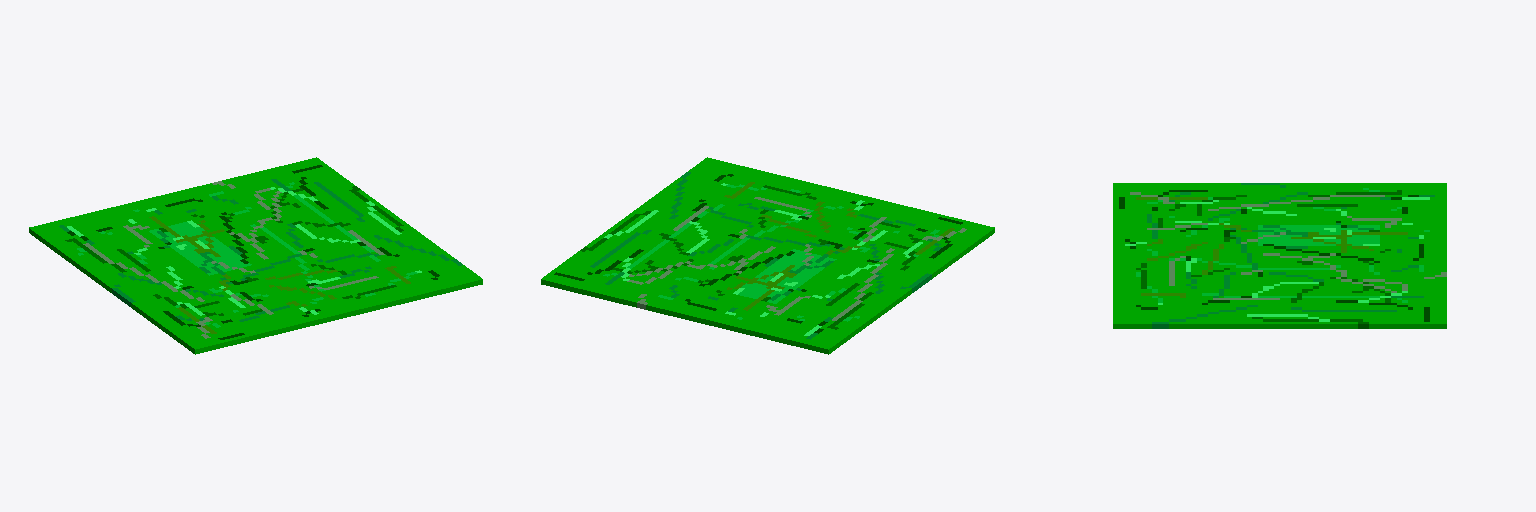
3 views of the same model, side by side, from view 1: azimuth 30°, elevation 25°; view 2: azimuth 150°, elevation 25°; view 3: azimuth 270°, elevation 25° (orthographic).
Visible parts, largest first — view 1: object 1; view 2: object 1; view 3: object 1.
Boxes of the visible parts, <box> form: object 1: <box>29,157,482,354</box>; object 1: <box>541,157,994,354</box>; object 1: <box>1113,183,1446,328</box>.
Size of the model in its own units: 6 by 0.1 by 6.
Materials: 1 (1 with a texture image).